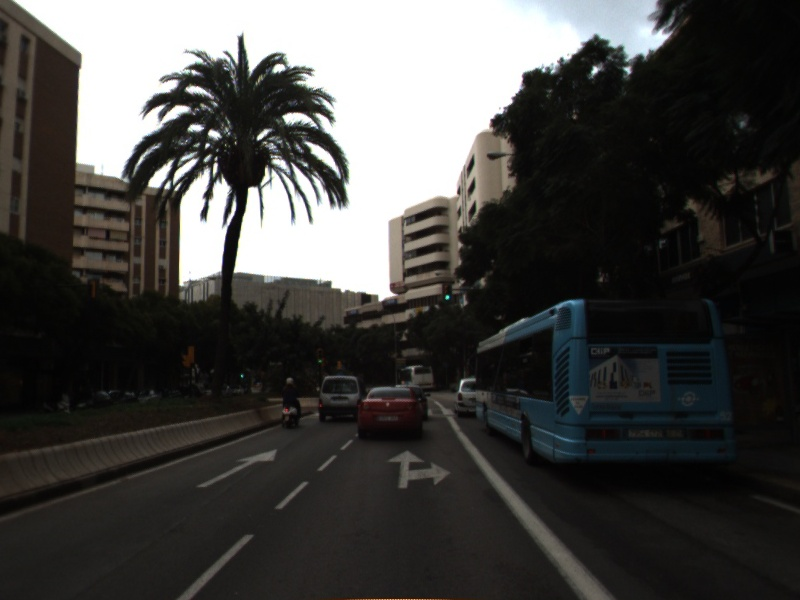STRAIGHT: (193, 447, 279, 489)
STRAIGHT_RIGHT: (384, 448, 454, 491)
